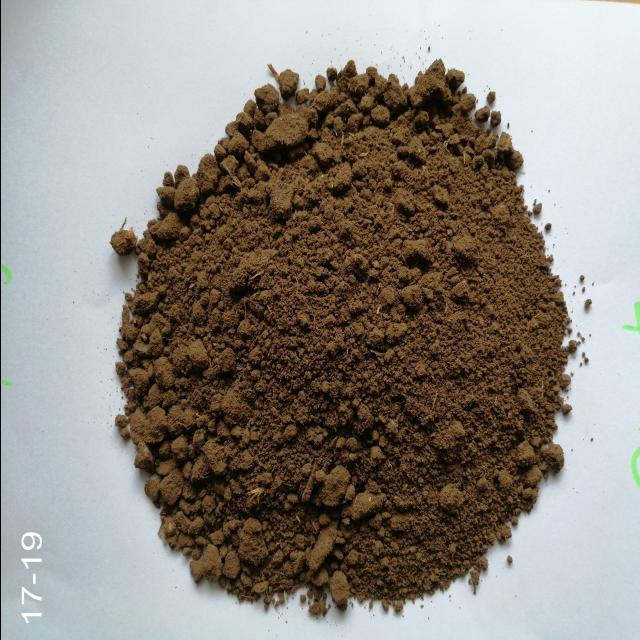soil: (170, 160, 500, 526)
